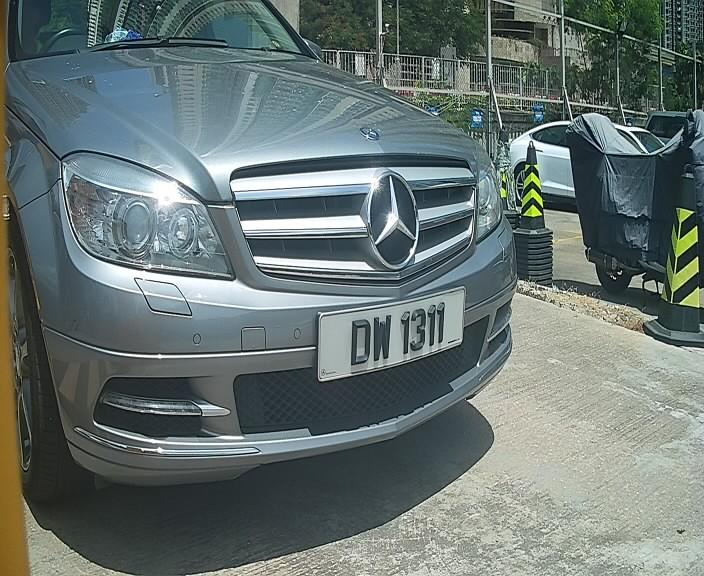License Plate: (305, 289, 456, 384)
